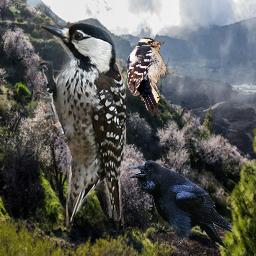Crow: (128, 160, 233, 251)
Woodpecker: (27, 21, 126, 227), (124, 36, 177, 116)
